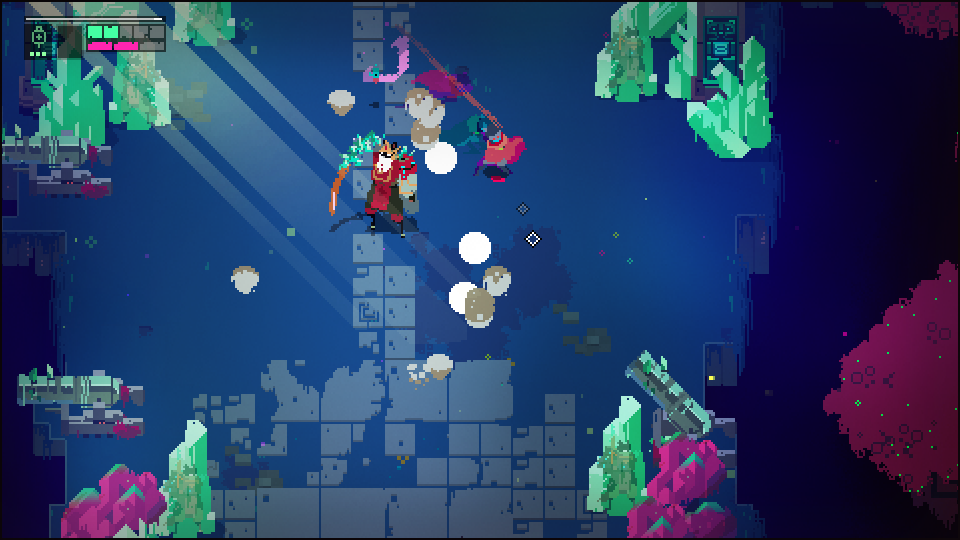hanged_man: (328, 130, 420, 234)
player: (474, 128, 527, 185)
